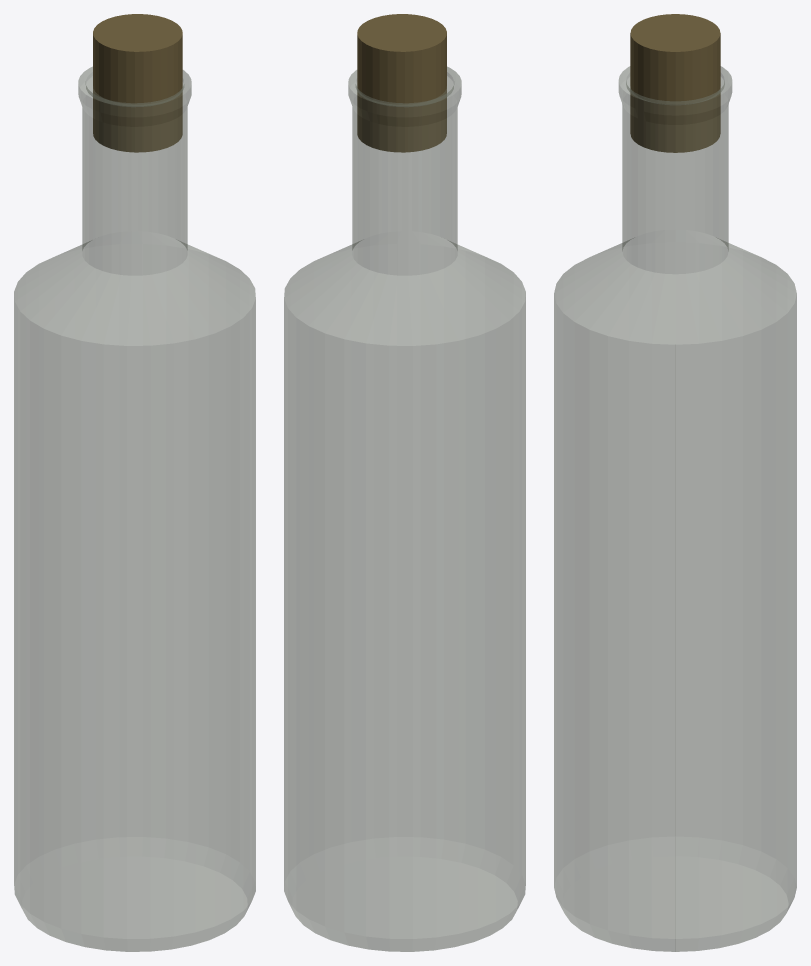
The model's file is wineBottle.dae.
The picture shows the model from 3 angles, left to right: view 1: azimuth 30°, elevation 25°; view 2: azimuth 150°, elevation 25°; view 3: azimuth 270°, elevation 25°; orthographic projection.
Visible parts, largest first — view 1: wineBottle; view 2: wineBottle; view 3: wineBottle.
Boxes of the visible parts, x1,y1,x2,y2 form: wineBottle: (14, 14, 255, 951); wineBottle: (284, 14, 525, 951); wineBottle: (554, 14, 796, 951).
Bounding box in the file's own units: 1.02 × 4.04 × 1.02.
